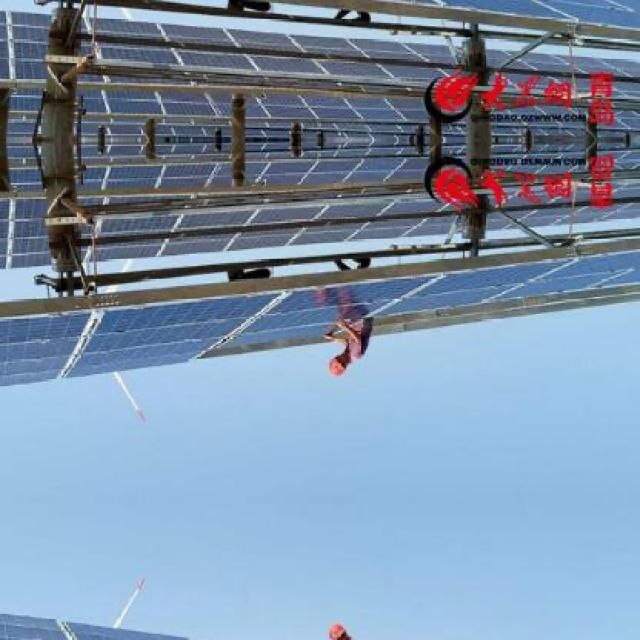con casco: (305, 334, 377, 389)
